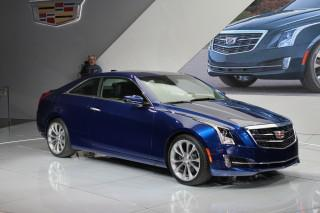cadillac: (271, 127, 291, 142)
